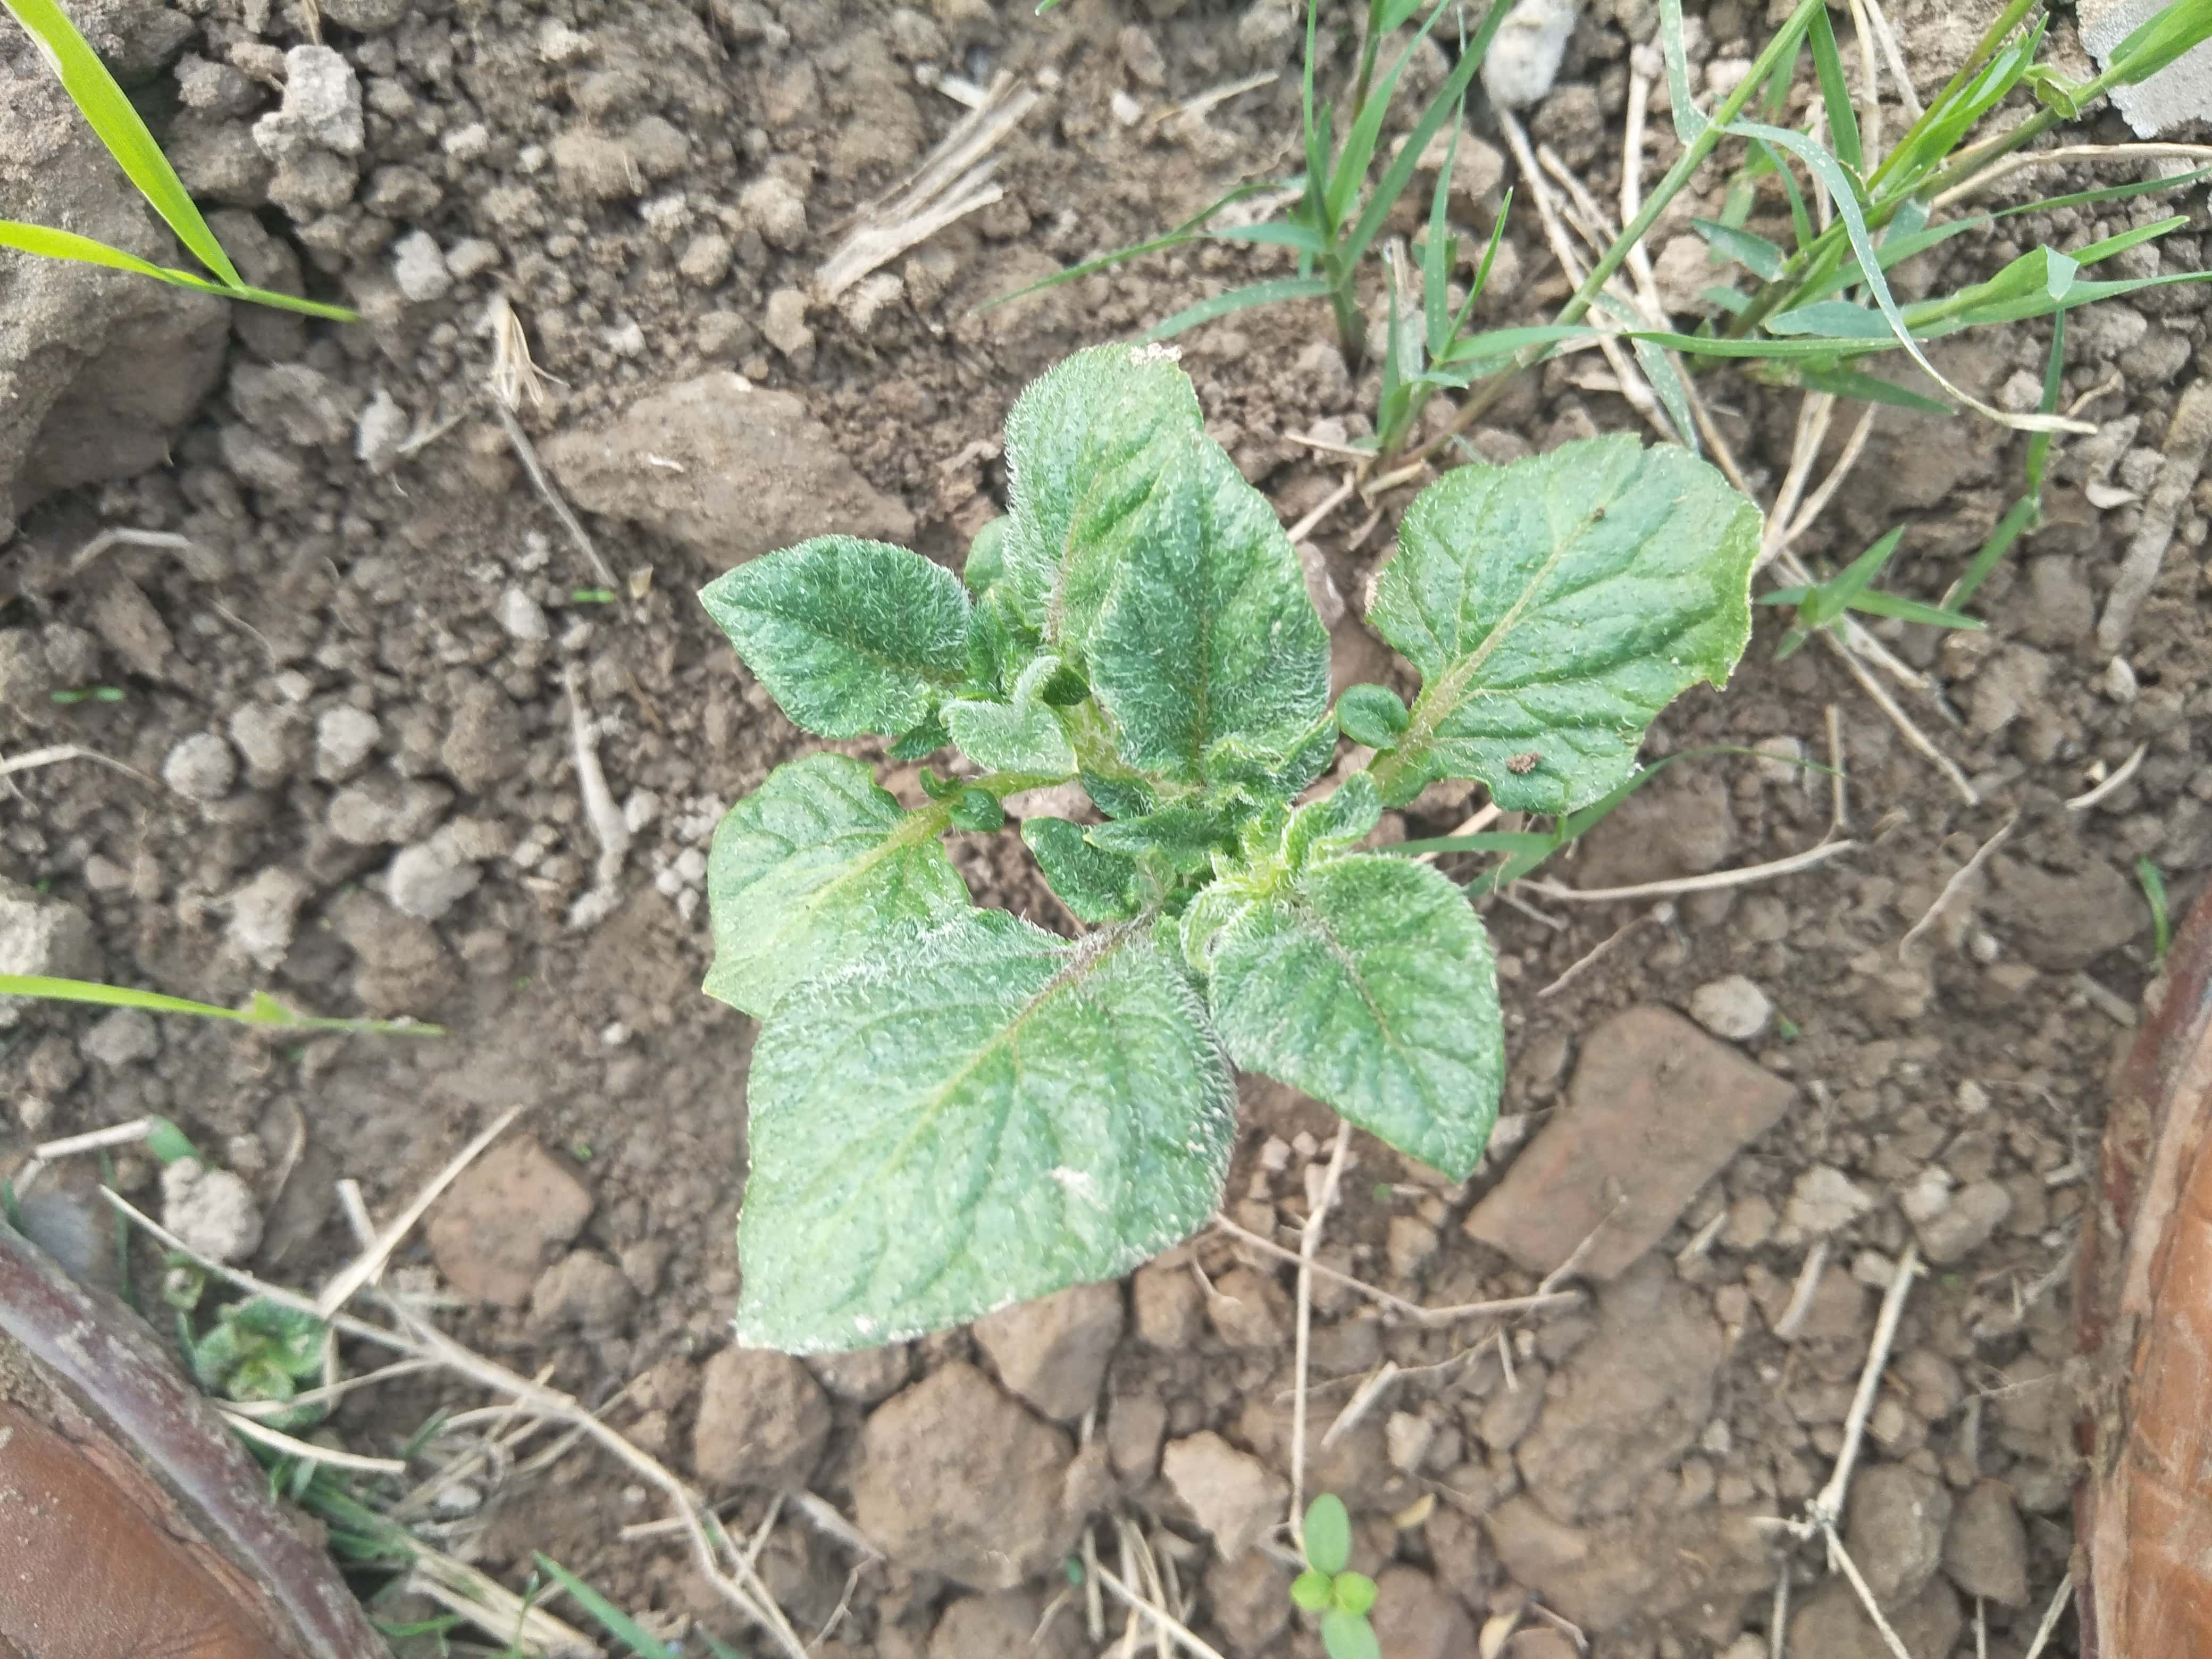daun: (759, 911, 1224, 1342), (1371, 443, 1750, 770), (1216, 866, 1507, 1183), (1096, 416, 1318, 800), (693, 763, 974, 1002), (690, 535, 974, 727), (1007, 335, 1191, 627), (941, 694, 1069, 786), (1092, 800, 1235, 870)
